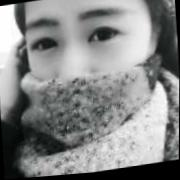WRONG: (23, 1, 160, 149)
